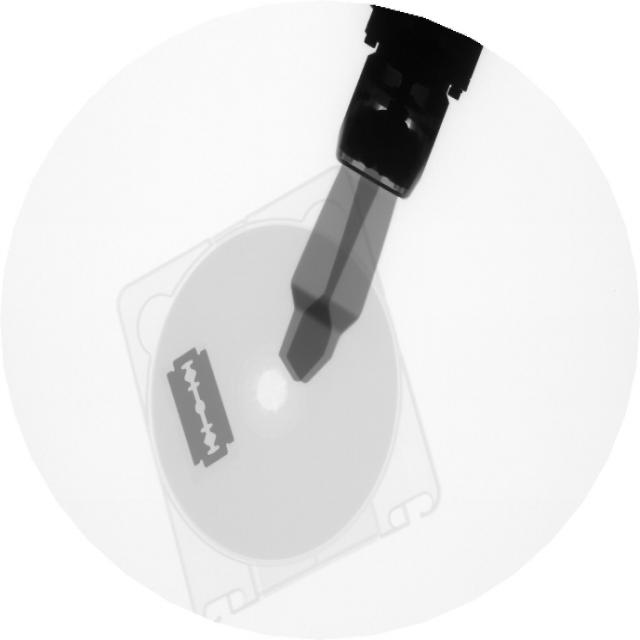BLADE: (163, 334, 241, 477)
